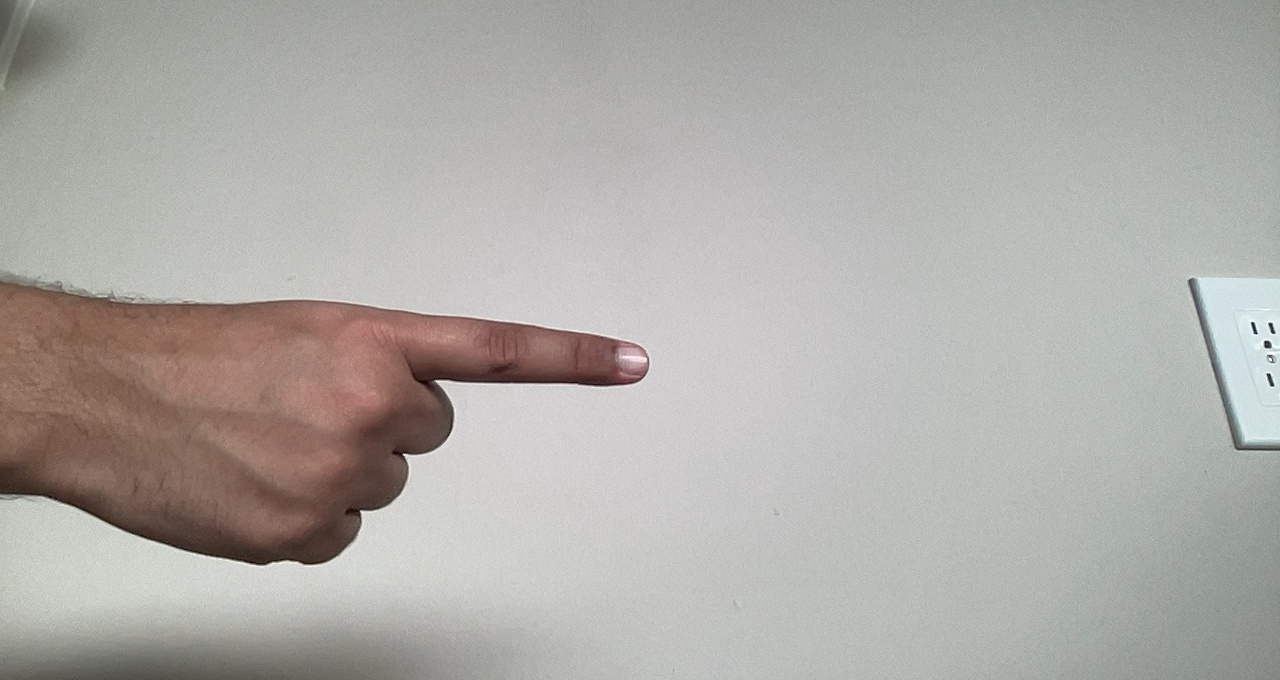fingerleft: (138, 293, 654, 568)
